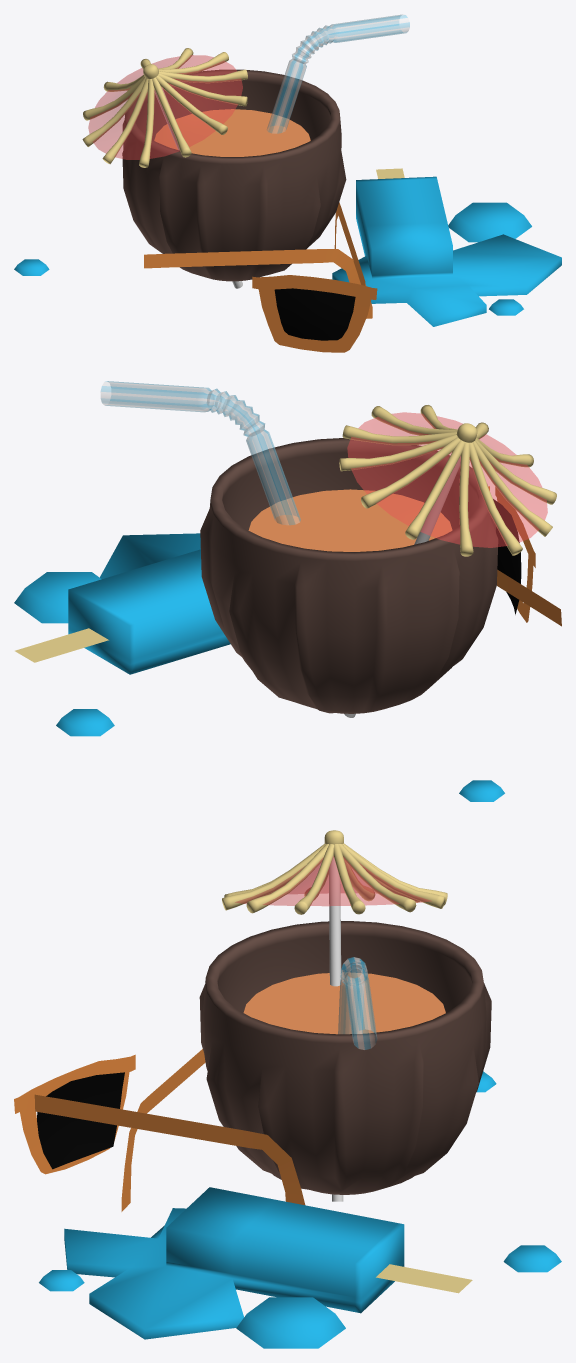
Rendered from sum-z88Getex.glb.
The picture shows the model from 3 angles, top to bottom: view 1: azimuth 30°, elevation 25°; view 2: azimuth 150°, elevation 25°; view 3: azimuth 270°, elevation 25°; orthographic projection. The views are drawn at different scales.
Visible parts, largest first — view 1: Sphere, Plane.004, Circle, Circle.014, Plane, Vert, Plane.002, Plane.003, Circle.015, Circle.004, Circle.007, Circle.008 (+9 smaller); view 2: Sphere, Plane.004, Circle, Circle.014, Vert, Circle.015, Plane.005, Circle.016, Plane.002, Circle.013, Circle.009, Circle.012 (+11 smaller); view 3: Sphere, Plane.004, Circle.014, Plane.001, Plane.002, Circle.015, Circle, Plane, Vert, Plane.003, Vert.002, Plane.005 (+8 smaller).
Boxes of the visible parts, left/top/right/bottom form: Sphere: left=122, top=69, right=346, bottom=281; Plane.004: left=332, top=176, right=561, bottom=326; Circle: left=88, top=55, right=242, bottom=159; Circle.014: left=154, top=109, right=310, bottom=156; Plane: left=252, top=275, right=377, bottom=352; Vert: left=267, top=14, right=409, bottom=133; Plane.002: left=274, top=288, right=355, bottom=340; Plane.003: left=144, top=249, right=372, bottom=318; Circle.015: left=448, top=202, right=531, bottom=242; Circle.004: left=158, top=73, right=247, bottom=106; Circle.007: left=139, top=79, right=154, bottom=167; Circle.008: left=102, top=78, right=148, bottom=164; Sphere: left=200, top=438, right=498, bottom=713; Plane.004: left=68, top=533, right=230, bottom=674; Circle: left=347, top=412, right=547, bottom=547; Circle.014: left=248, top=489, right=452, bottom=551; Vert: left=100, top=381, right=300, bottom=524; Circle.015: left=14, top=572, right=101, bottom=623; Plane.005: left=15, top=628, right=108, bottom=662; Circle.016: left=56, top=709, right=114, bottom=736; Plane.002: left=493, top=499, right=521, bottom=614; Circle.013: left=339, top=434, right=457, bottom=471; Circle.009: left=469, top=442, right=522, bottom=555; Circle.012: left=361, top=437, right=460, bottom=508; Sphere: left=199, top=921, right=491, bottom=1194; Plane.004: left=64, top=1187, right=404, bottom=1339; Circle.014: left=243, top=972, right=445, bottom=1034; Plane.001: left=34, top=1094, right=305, bottom=1205; Plane.002: left=37, top=1072, right=124, bottom=1169; Circle.015: left=236, top=1297, right=345, bottom=1348; Circle: left=235, top=856, right=431, bottom=906; Plane: left=14, top=1054, right=135, bottom=1174; Vert: left=338, top=957, right=376, bottom=1049; Plane.003: left=121, top=1049, right=205, bottom=1211; Vert.002: left=329, top=857, right=343, bottom=1201; Plane.005: left=376, top=1264, right=472, bottom=1293.
Size of what is drawn, in the model's own units: 4.21 by 2.28 by 3.57.
